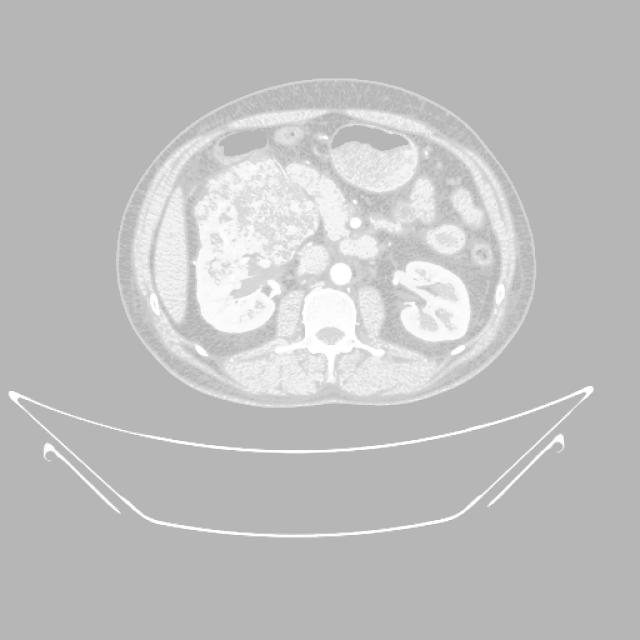TUMOR: (136, 152, 409, 321)
